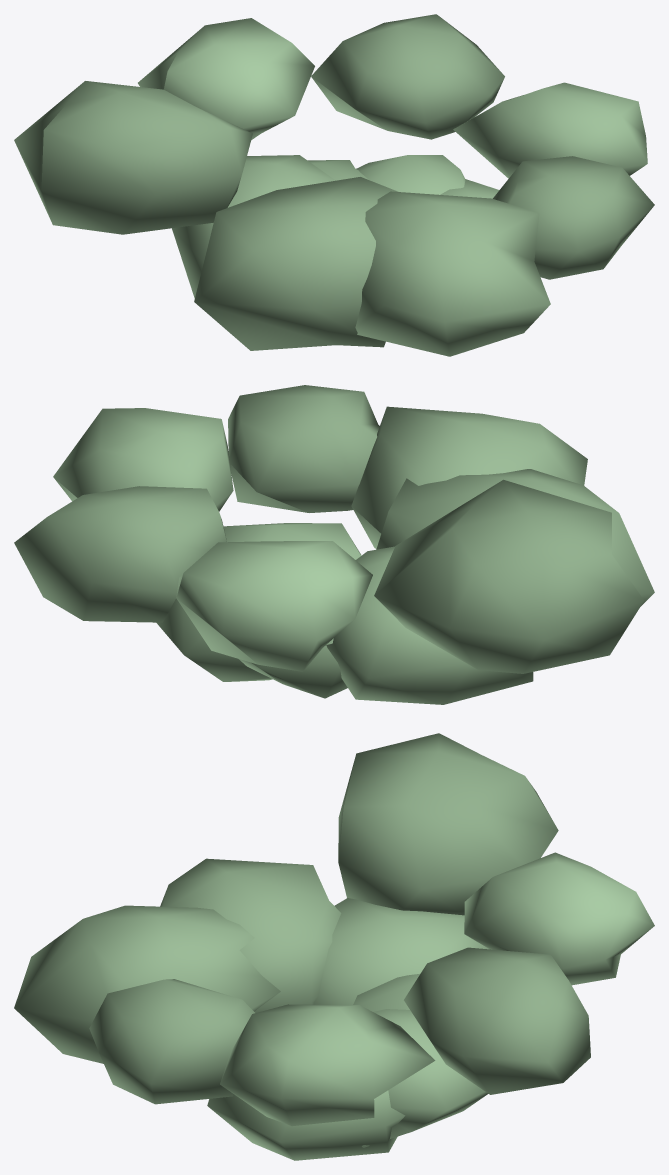
The model's file is succulent_2.glb.
3 views of the same model, one above another, from view 1: azimuth 30°, elevation 25°; view 2: azimuth 150°, elevation 25°; view 3: azimuth 270°, elevation 25° (orthographic). The views are drawn at different scales.
Parts seen in each view (by area): view 1: succulent; view 2: succulent; view 3: succulent.
Part boxes in pixels (left/top/right/bottom): succulent: left=14, top=14, right=654, bottom=356; succulent: left=14, top=385, right=654, bottom=704; succulent: left=14, top=733, right=654, bottom=1160.
Bounding box in the file's own units: 0.3936 × 0.1635 × 0.3726.
